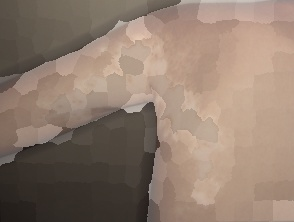vitiligo: (17, 0, 289, 222)
